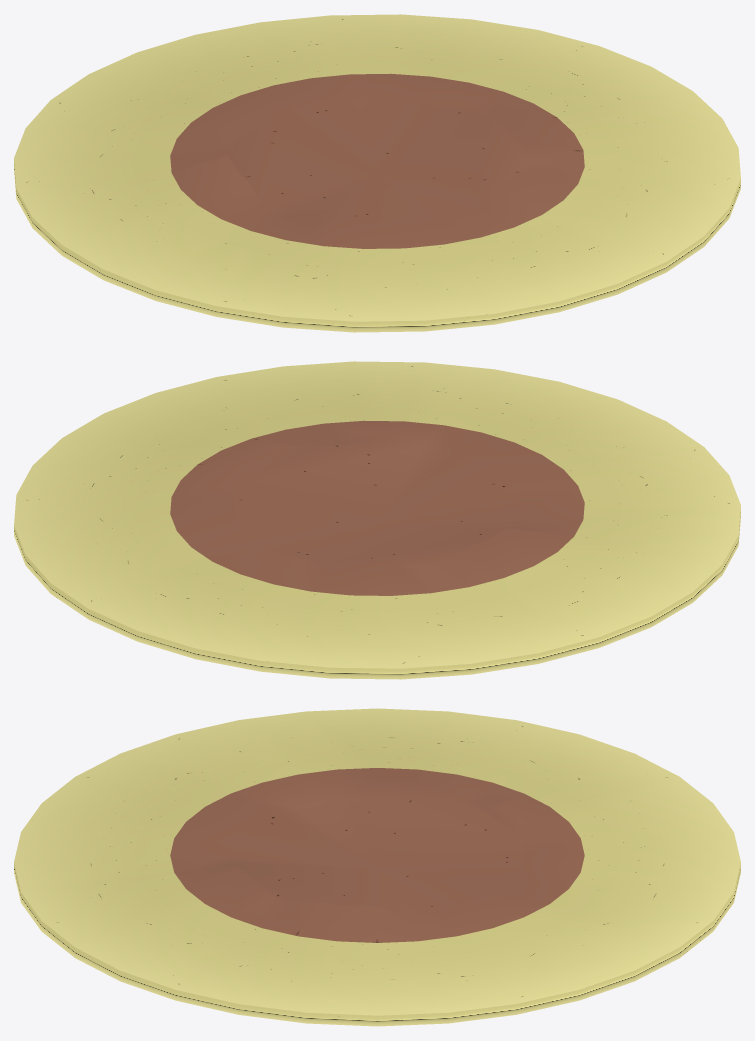
The model's file is island Break.fbx.
The picture shows the model from 3 angles, top to bottom: view 1: azimuth 30°, elevation 25°; view 2: azimuth 150°, elevation 25°; view 3: azimuth 270°, elevation 25°; orthographic projection.
Parts seen in each view (by area): view 1: Cylinder; view 2: Cylinder; view 3: Cylinder.
Boxes of the visible parts, x1,y1,x2,y2 form: Cylinder: (14, 14, 740, 332); Cylinder: (14, 361, 740, 679); Cylinder: (14, 708, 740, 1026).
Bounding box in the file's own units: 96042 × 4277 × 96042.
1 material, 1 textured.
